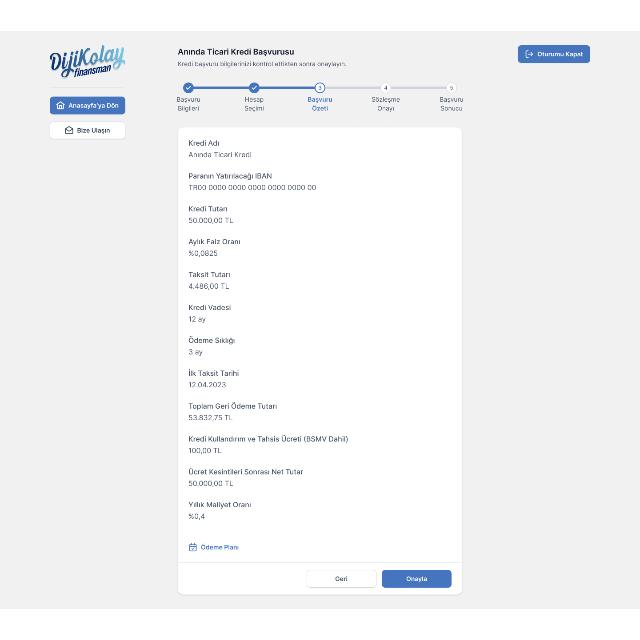QLabel: (176, 60, 348, 68), (186, 436, 350, 444), (189, 184, 317, 192), (177, 48, 295, 56), (188, 468, 304, 476), (188, 402, 278, 410), (187, 172, 273, 180), (188, 501, 252, 509), (188, 335, 236, 345), (372, 96, 400, 112), (188, 238, 242, 246), (186, 369, 240, 377), (68, 102, 120, 110), (438, 96, 464, 112), (200, 542, 240, 552), (188, 152, 252, 158), (176, 96, 200, 112), (188, 414, 234, 422), (186, 270, 232, 278), (188, 480, 234, 488), (188, 217, 234, 225), (76, 126, 112, 136), (188, 446, 222, 456), (186, 380, 228, 388), (188, 282, 230, 290), (308, 96, 332, 110), (244, 96, 264, 112), (187, 205, 229, 212), (536, 51, 584, 57), (185, 304, 232, 310), (187, 140, 221, 146), (404, 576, 428, 584), (188, 250, 218, 256), (187, 348, 205, 356), (188, 513, 206, 521), (188, 316, 206, 322), (334, 576, 348, 582)
VBtn: (50, 122, 126, 140), (518, 45, 590, 63), (307, 570, 377, 588), (382, 570, 452, 588), (50, 98, 126, 114)
VCard: (178, 127, 462, 595)
VDivider: (180, 561, 462, 563), (194, 86, 248, 90), (260, 86, 314, 90), (326, 86, 380, 90), (392, 86, 446, 90)
VIcon: (54, 101, 66, 111), (522, 49, 534, 59), (64, 125, 74, 135), (188, 542, 198, 552)
VImg: (44, 39, 128, 85)
VStepper: (167, 73, 477, 602)
